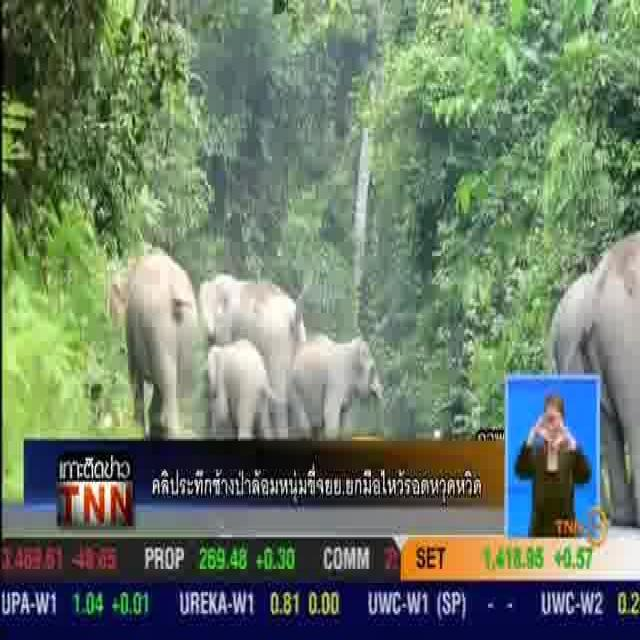Elephant: (127, 261, 197, 370), (211, 281, 300, 345), (313, 343, 377, 412), (590, 274, 640, 362), (218, 350, 266, 419)
